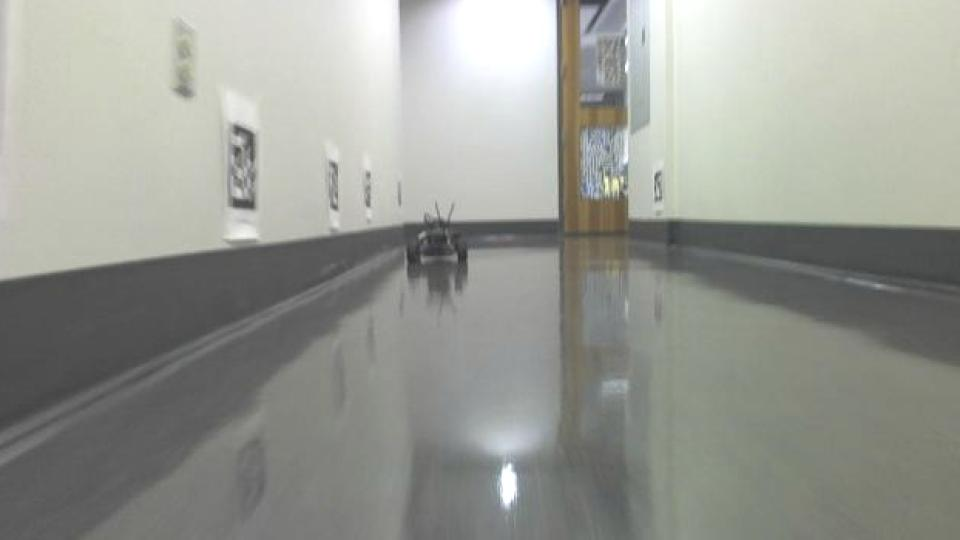car: (401, 196, 469, 271)
